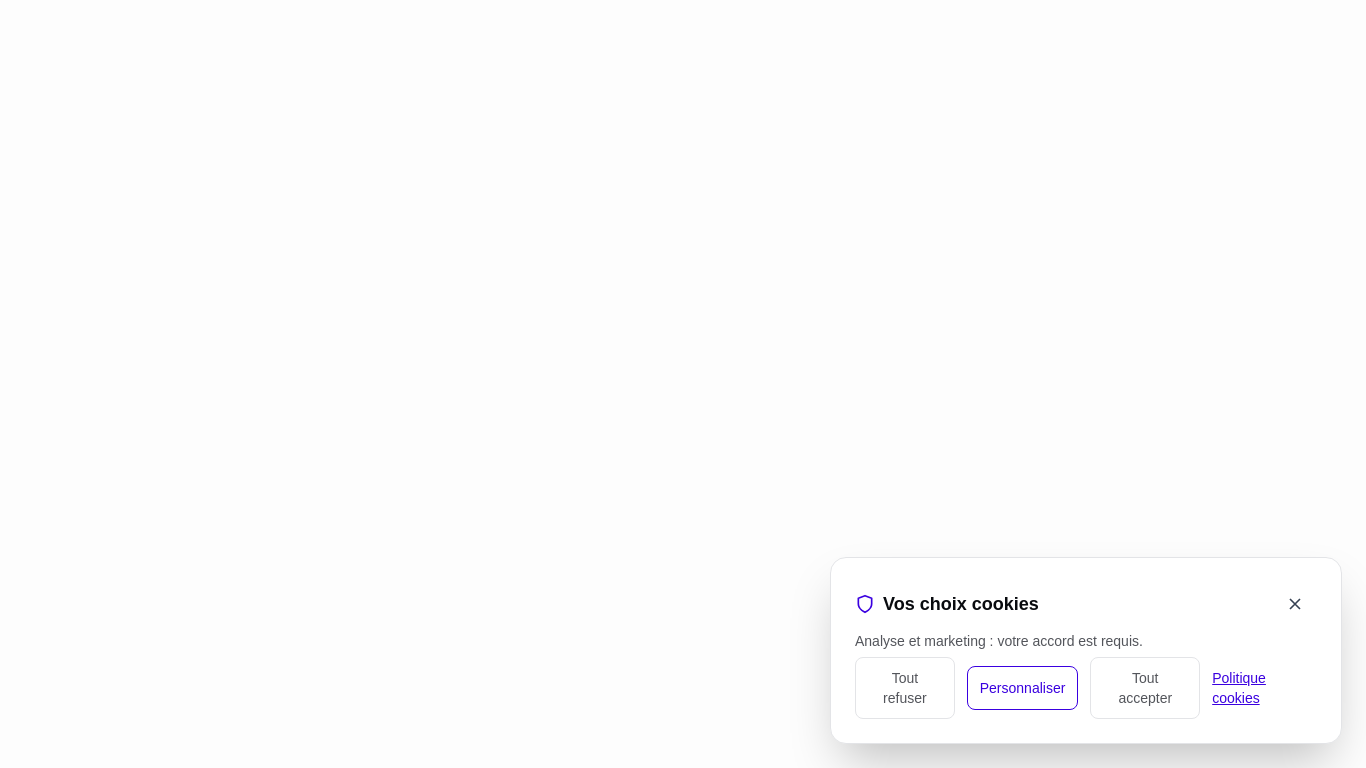
Test case: cookie preferences › does not grant draft consent when Escape dismisses the first visit
This screenshot has width=1366, height=768.
Step 1. Click the button "Personnaliser" → x=1023, y=688, box [967,666,1078,710]
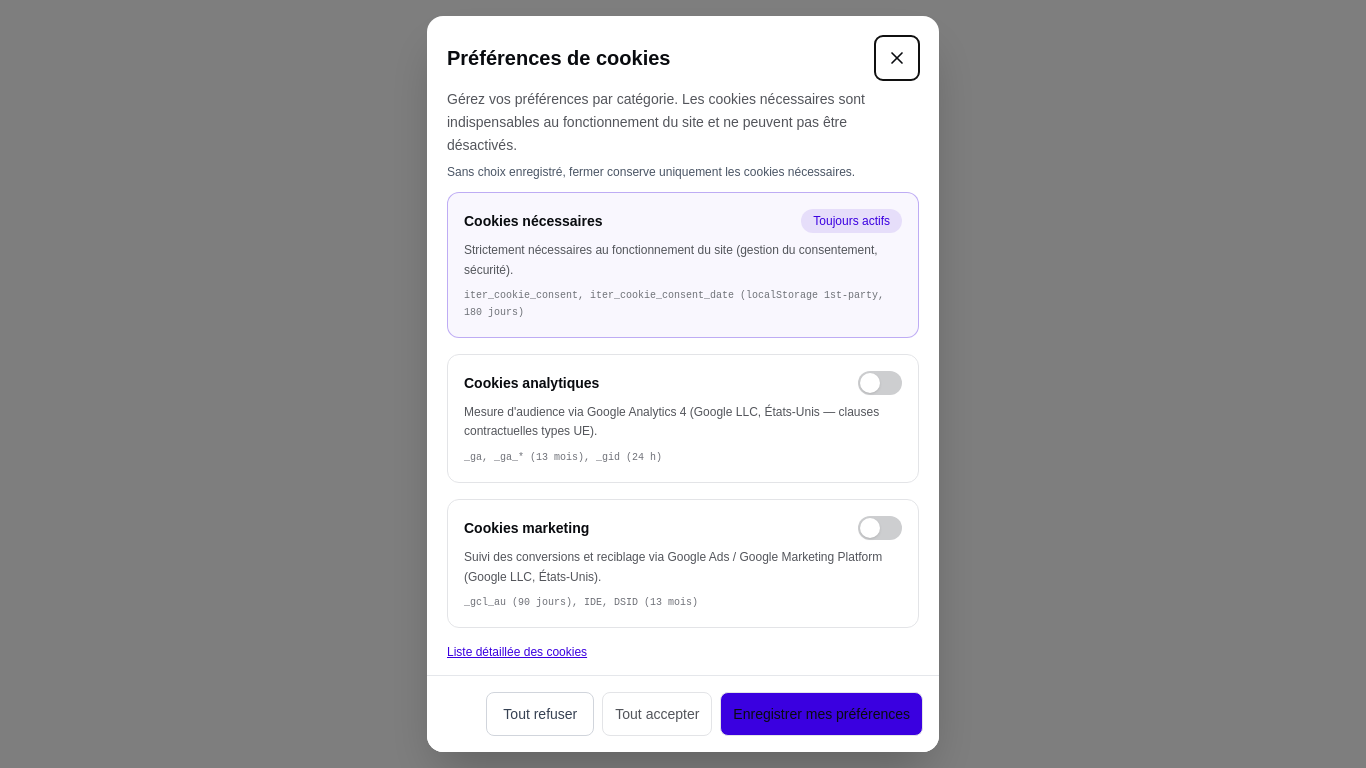
Step 2. Click the switch named "Cookies analytiques" → x=880, y=383, box [858,371,902,395]
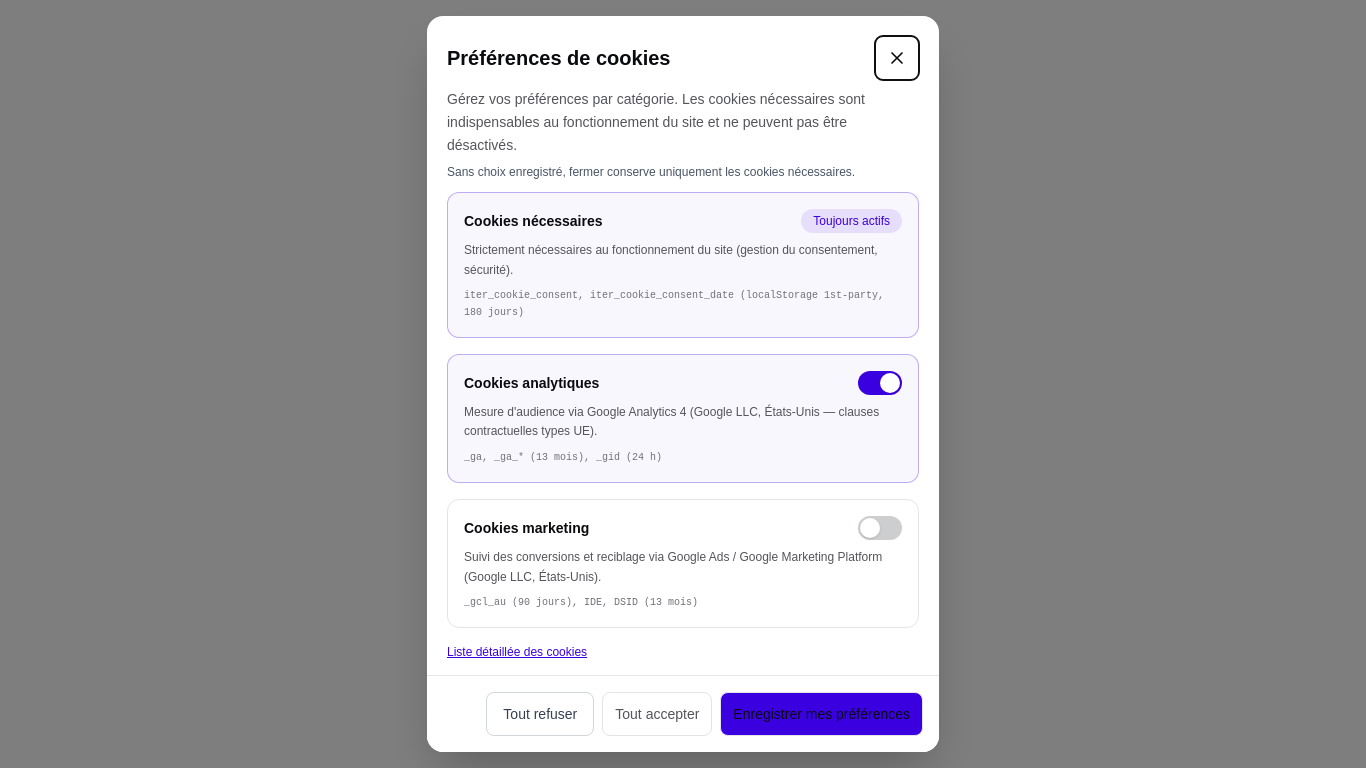
Step 3. Press Escape
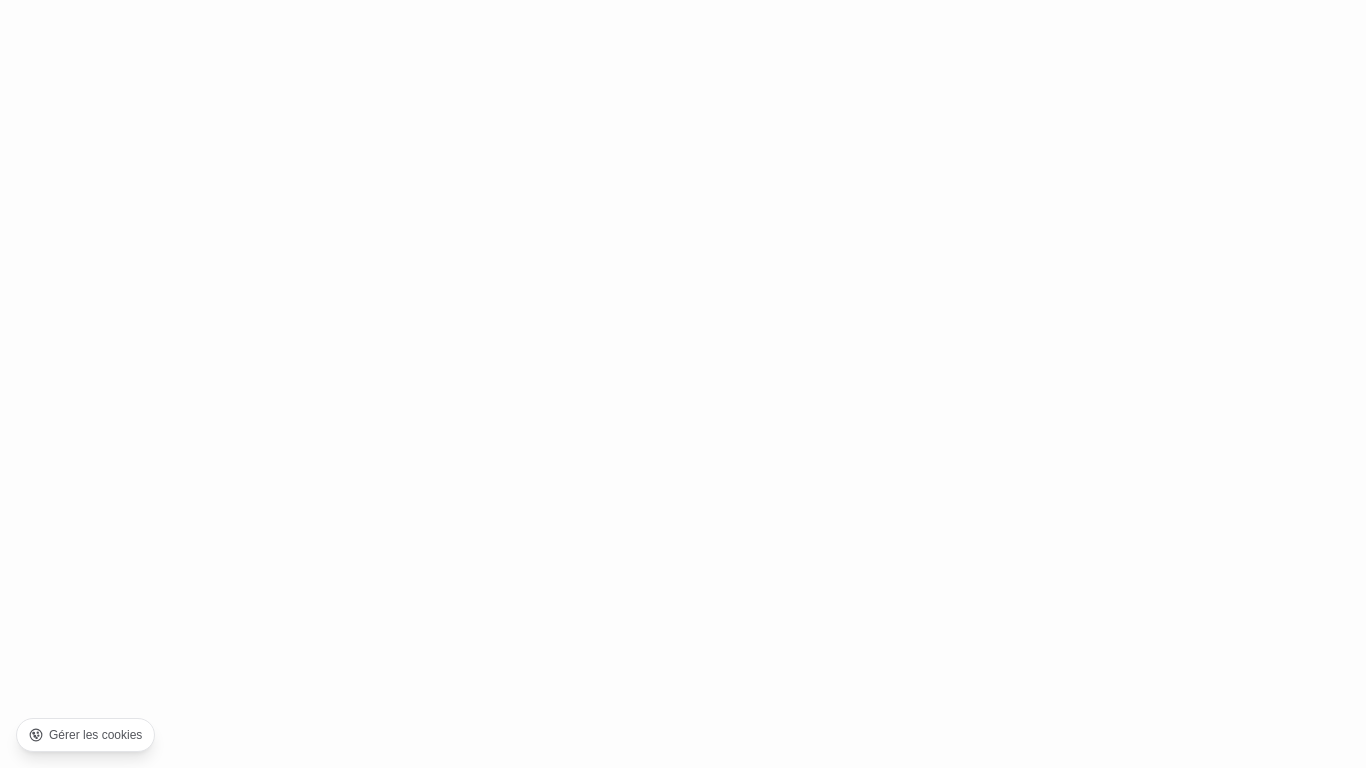
Check: the dialog is gone
